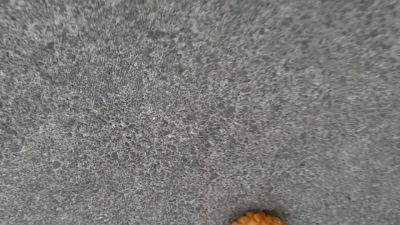eggs: (232, 211, 285, 225)
